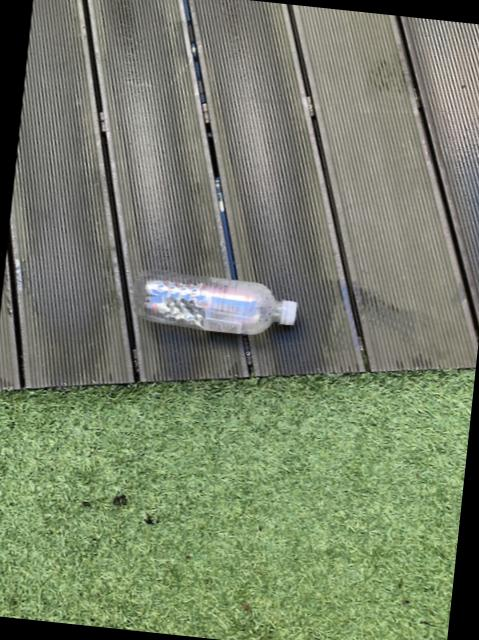plastic: (135, 269, 297, 332)
